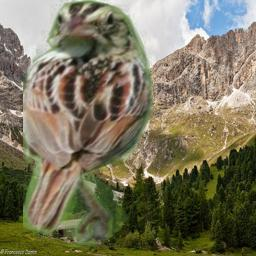Sparrow: (23, 0, 154, 247)
